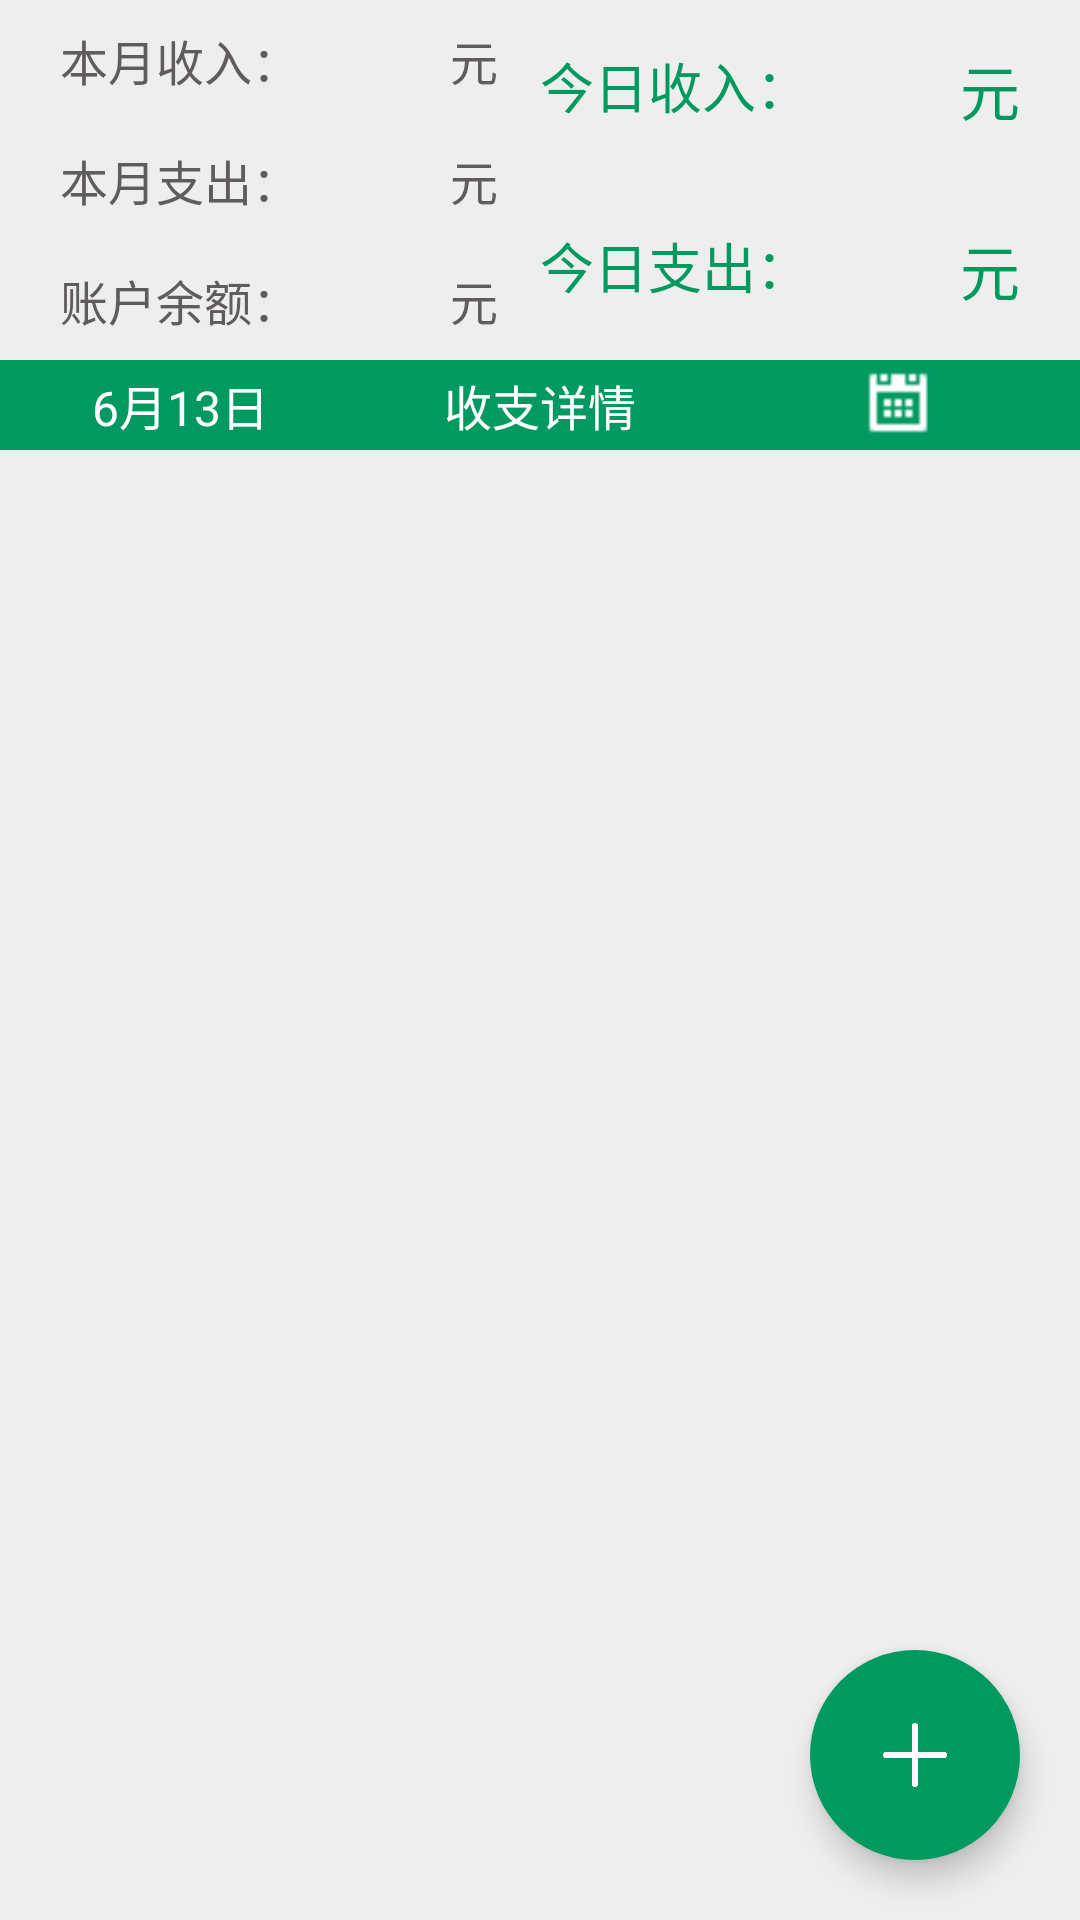

Screen size 1080px×1920px. Icon name, then its box in pixels as box=[x1, y1, x2, y2]:
calander: box=[868, 373, 928, 433]
floatbutton add: box=[810, 1650, 1020, 1860]
